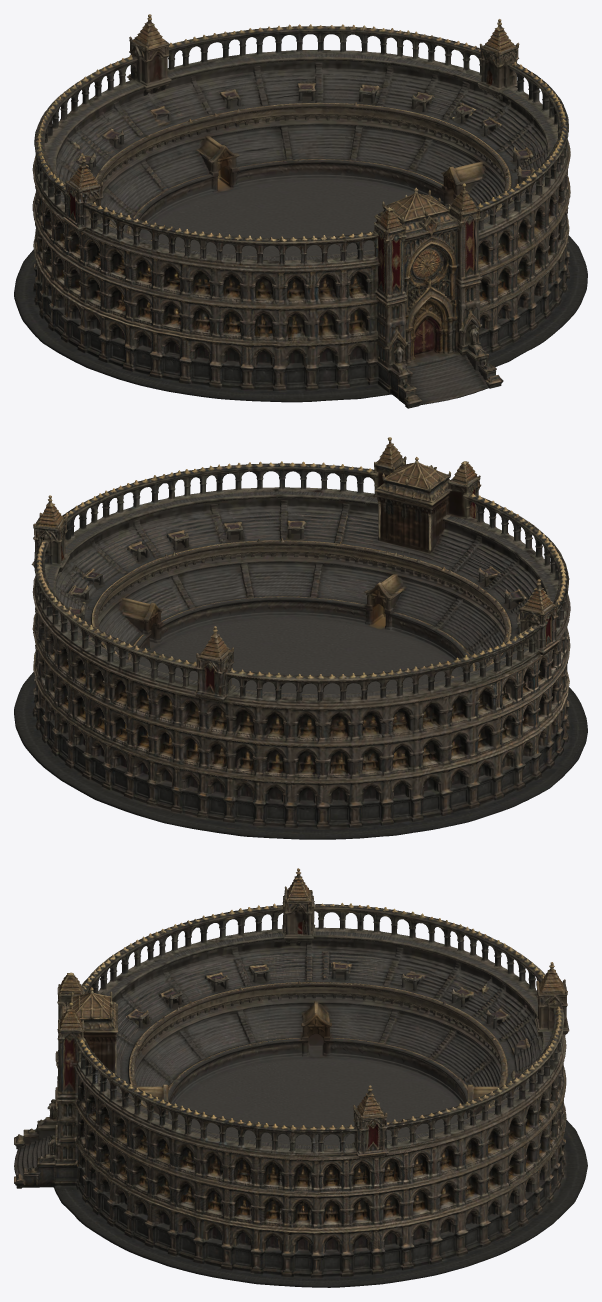
File: circular_arena.glb
3 renders of one model, top to bottom at view 1: azimuth 30°, elevation 25°; view 2: azimuth 150°, elevation 25°; view 3: azimuth 270°, elevation 25°, orthographic.
Bounding box in the file's own units: 0.9791 × 0.3564 × 0.9755.
1 material, 1 textured.
